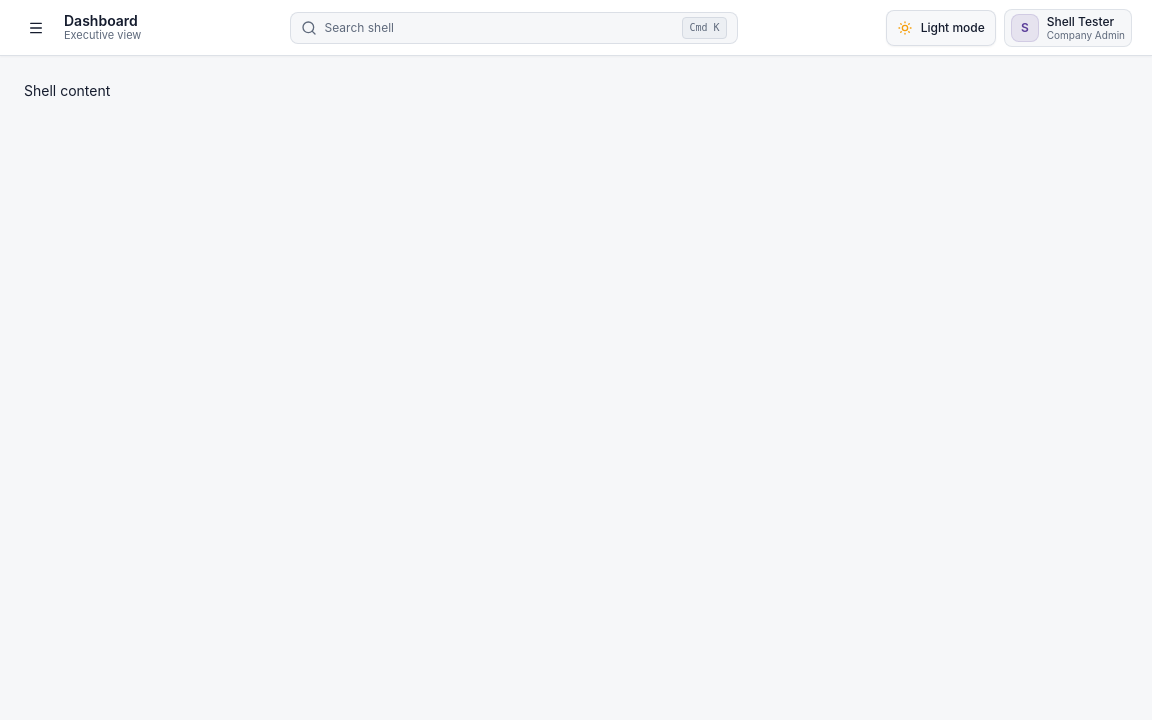
Scenario: AppShell › uses the mobile drawer navigation when the viewport is mobile
expect the link "Settings" is not shown: met
Step 1. Click the button named "Open navigation menu" → (36, 28), box [20,12,52,44]
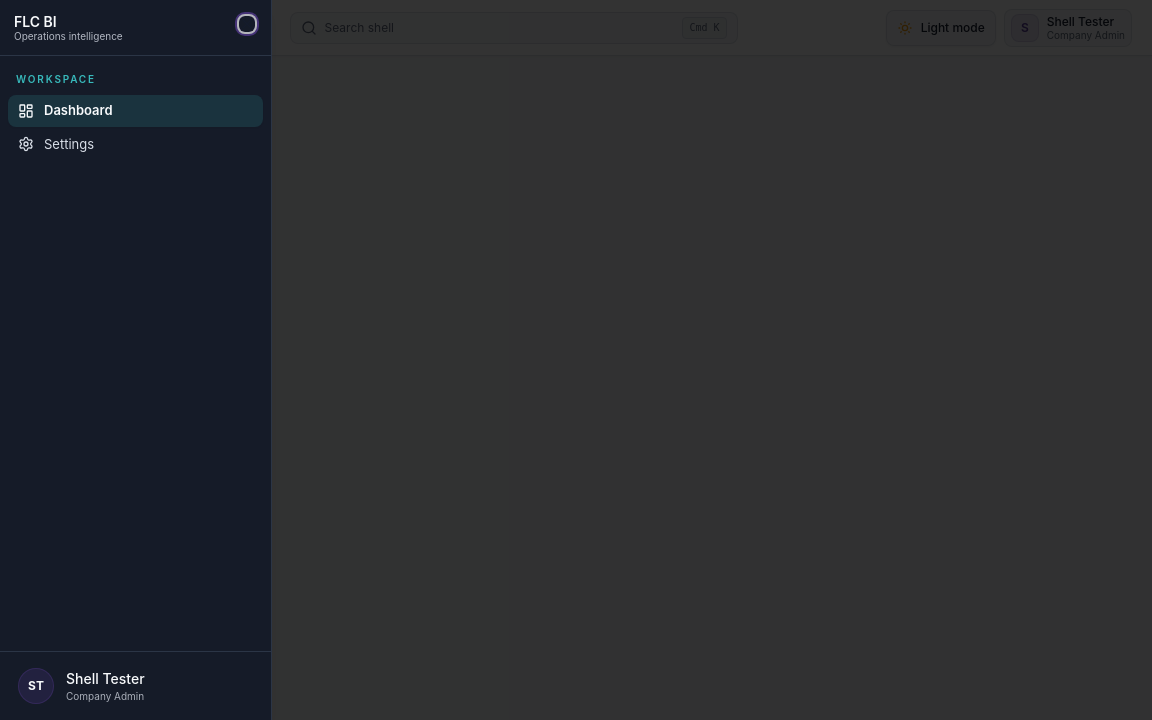
expect the link "Settings" is shown: met, box [18,136,94,152]
